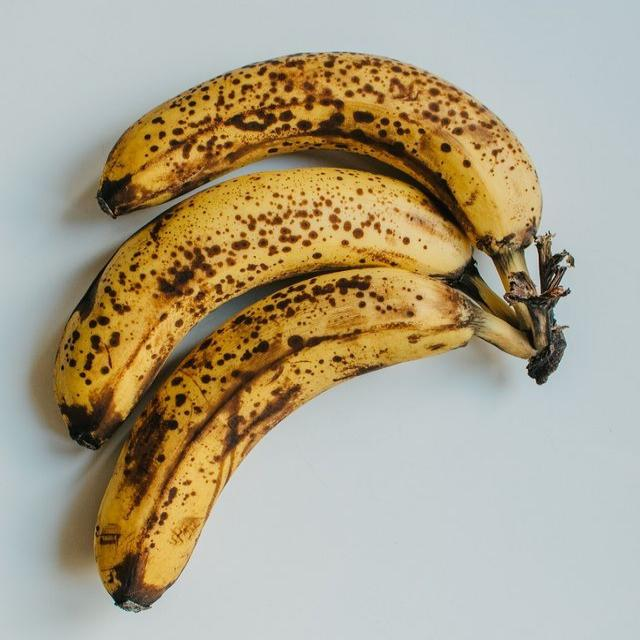unpeal banana: (98, 53, 565, 382), (95, 268, 532, 610), (55, 169, 471, 448), (98, 53, 540, 255)
